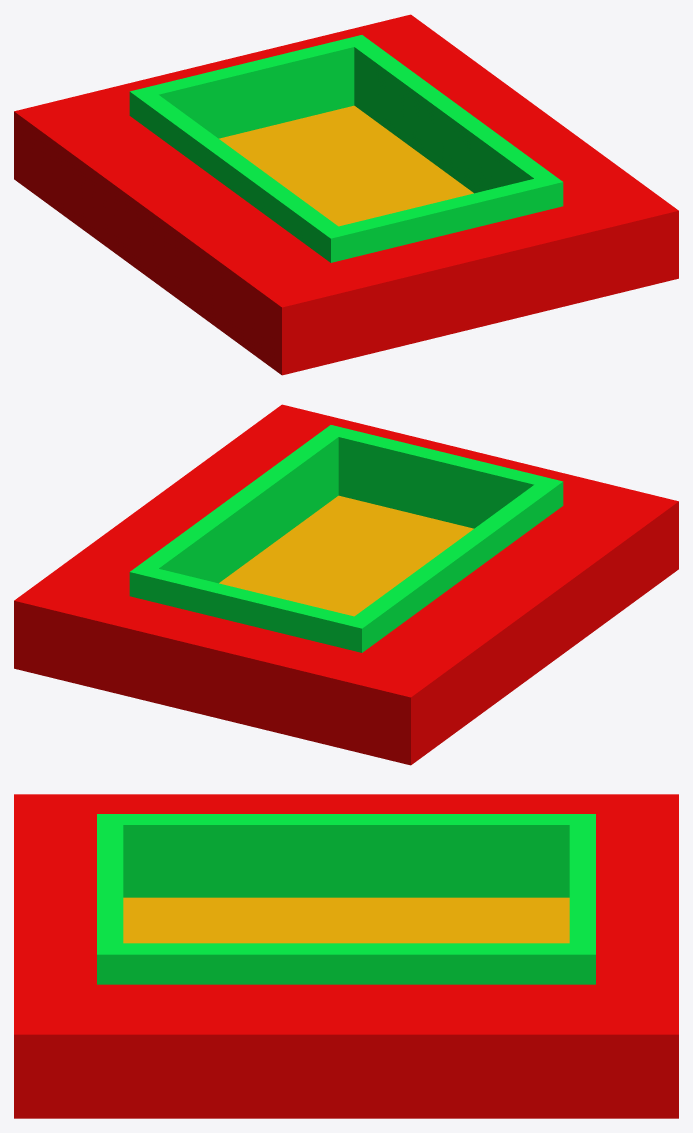
The model's file is Window.FBX.
3 renders of one model, top to bottom at view 1: azimuth 30°, elevation 25°; view 2: azimuth 150°, elevation 25°; view 3: azimuth 270°, elevation 25°, orthographic. The views are drawn at different scales.
Parts seen in each view (by area): view 1: Box002; view 2: Box002; view 3: Box002.
Part boxes in pixels (x1,y1,x2,y2): Box002: (14, 14, 678, 375); Box002: (14, 404, 678, 765); Box002: (14, 794, 678, 1118).
Bounding box in the file's own units: 171 × 37.97 × 200.
